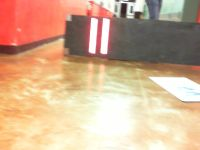switch: (88, 18, 98, 54), (100, 18, 110, 54)
